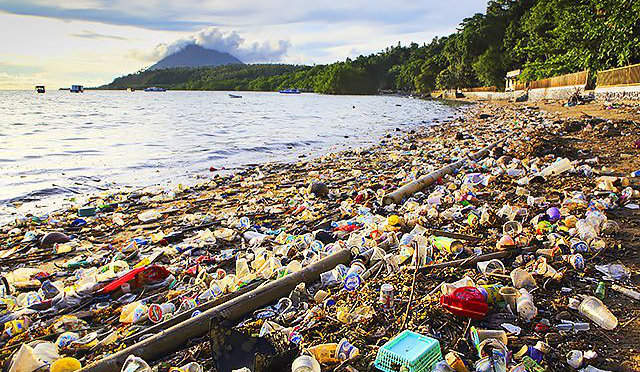litter: (376, 322, 441, 372), (440, 282, 489, 329), (572, 292, 625, 333), (299, 337, 359, 372), (321, 251, 369, 288), (79, 258, 136, 288), (224, 248, 259, 290), (521, 158, 573, 185), (14, 335, 48, 372), (509, 287, 548, 317), (495, 222, 529, 251), (117, 296, 152, 324), (429, 233, 470, 254), (345, 261, 374, 290), (517, 267, 550, 292), (560, 247, 592, 272), (575, 220, 599, 252), (601, 257, 630, 281), (375, 280, 393, 314), (117, 354, 151, 372), (241, 231, 276, 243)
